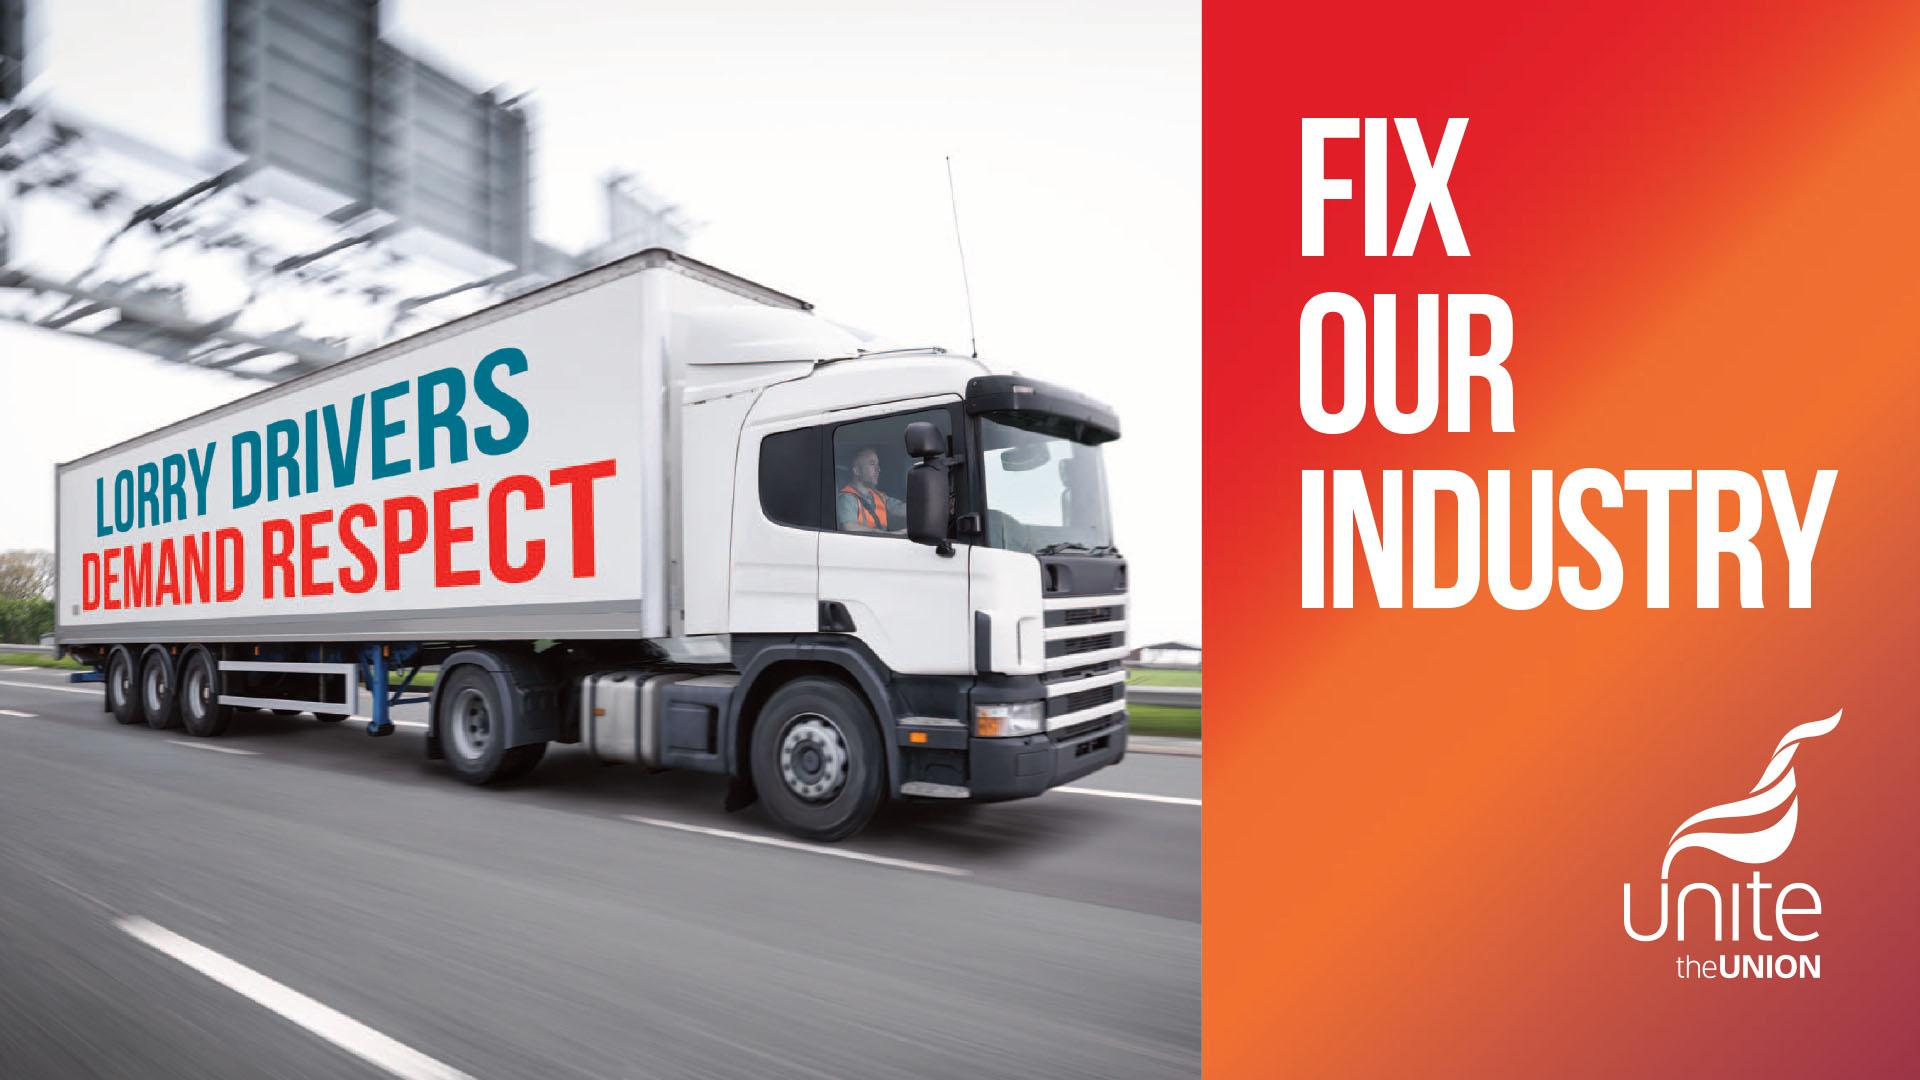truck: (51, 245, 1127, 845)
